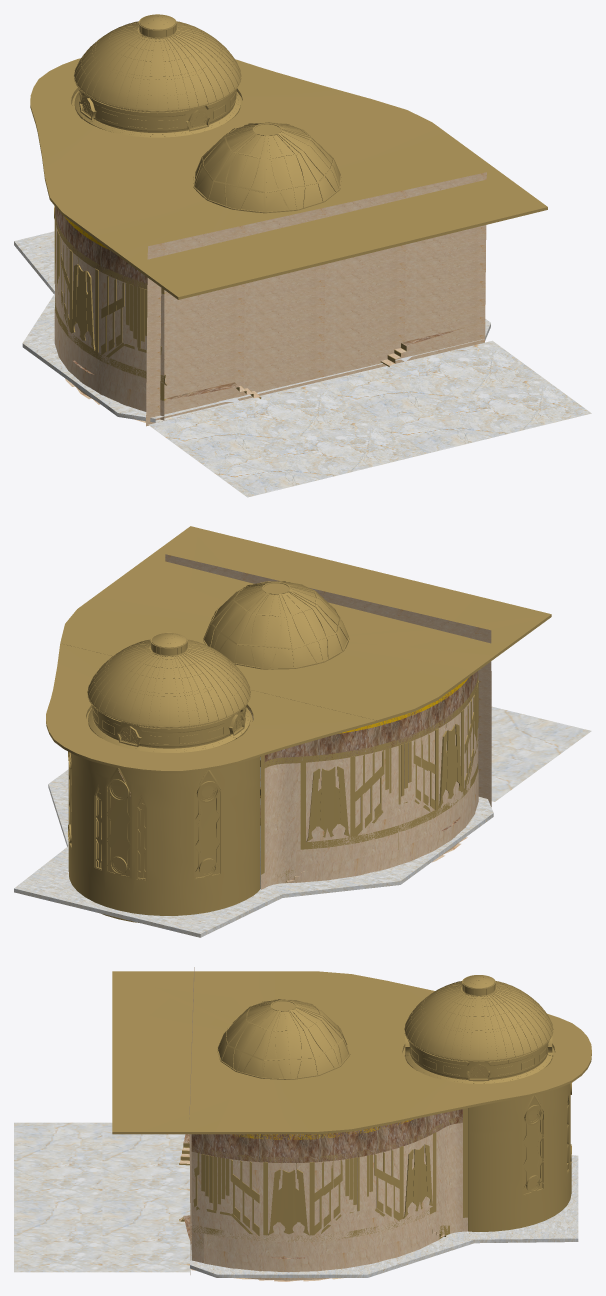
Rendered from Sabhamandap.gltf.
3 renders of one model, top to bottom at view 1: azimuth 30°, elevation 25°; view 2: azimuth 150°, elevation 25°; view 3: azimuth 270°, elevation 25°, orthographic. The views are drawn at different scales.
Parts seen in each view (by area): view 1: XI_TOG_Ceiling.Shape_XI_TOG_Wall_Ceiling_Mat_0.002, Plane, Plane.001, XI_TOG_Ceiling.Shape_XI_TOG_Dome_Glass_Mat_0, XI_TOG_Ceiling.Shape_XI_TOG_Dome_Frame_Mat_0, XI_TOG_LeftWall.Shape_XI_TOG_Wall_LeftWall_Mat_0.009, XI_TOG_Ground.Shape_XI_TOG_Wall_Ground_Mat_0.008, XI_TOG_LeftWall.Shape_XI_TOG_Wall_LeftWall_Mat_0.013, XI_TOG_LeftWall.Shape_XI_TOG_Wall_LeftWall_Mat_0.018, XI_TOG_LeftWall.Shape_XI_TOG_Wall_LeftWall_Mat_0.016, XI_TOG_LeftWall.Shape_XI_TOG_Wall_LeftWall_Mat_0.007, XI_TOG_LeftWall.Shape_XI_TOG_Wall_LeftWall_Mat_0.006 (+2 smaller); view 2: XI_TOG_Ceiling.Shape_XI_TOG_Wall_Ceiling_Mat_0.002, XI_TOG_Thronewall.Shape_XI_TOG_Wall_ThroneWall_Mat_0.001, XI_TOG_LeftWall.Shape_XI_TOG_Wall_LeftWall_Mat_0.009, XI_TOG_Ceiling.Shape_XI_TOG_Dome_Glass_Mat_0, XI_TOG_Ceiling.Shape_XI_TOG_Dome_Frame_Mat_0, XI_TOG_Ground.Shape_XI_TOG_Wall_Ground_Mat_0.008, Plane.001, Plane, XI_TOG_Thronewall.Shape_XI_TOG_Wall_Opac_Mat_0.001, XI_TOG_LeftWall.Shape_XI_TOG_Wall_LeftWall_Mat_0.013, XI_TOG_LeftWall.Shape_XI_TOG_Wall_LeftWall_Mat_0.015, XI_TOG_LeftWall.Shape_XI_TOG_Wall_LeftWall_Mat_0.019 (+6 smaller); view 3: XI_TOG_Ceiling.Shape_XI_TOG_Wall_Ceiling_Mat_0.002, Plane.001, XI_TOG_LeftWall.Shape_XI_TOG_Wall_LeftWall_Mat_0.038, XI_TOG_Ceiling.Shape_XI_TOG_Dome_Glass_Mat_0, XI_TOG_Thronewall.Shape_XI_TOG_Wall_ThroneWall_Mat_0.001, XI_TOG_Ceiling.Shape_XI_TOG_Dome_Frame_Mat_0, XI_TOG_LeftWall.Shape_XI_TOG_Wall_LeftWall_Mat_0.034, XI_TOG_Ground.Shape_XI_TOG_Wall_Ground_Mat_0.008, XI_TOG_LeftWall.Shape_XI_TOG_Wall_LeftWall_Mat_0.032, XI_TOG_LeftWall.Shape_XI_TOG_Wall_LeftWall_Mat_0.029, XI_TOG_LeftWall.Shape_XI_TOG_Wall_LeftWall_Mat_0.031, XI_TOG_LeftWall.Shape_XI_TOG_Wall_LeftWall_Mat_0.028 (+7 smaller).
Boxes of the visible parts, <box> form: XI_TOG_Ceiling.Shape_XI_TOG_Wall_Ceiling_Mat_0.002: <box>30,58,547,299</box>; Plane: <box>146,172,486,426</box>; Plane.001: <box>148,340,591,497</box>; XI_TOG_Ceiling.Shape_XI_TOG_Dome_Glass_Mat_0: <box>74,14,340,211</box>; XI_TOG_Ceiling.Shape_XI_TOG_Dome_Frame_Mat_0: <box>72,14,341,213</box>; XI_TOG_LeftWall.Shape_XI_TOG_Wall_LeftWall_Mat_0.009: <box>54,225,164,422</box>; XI_TOG_Ground.Shape_XI_TOG_Wall_Ground_Mat_0.008: <box>14,231,490,422</box>; XI_TOG_LeftWall.Shape_XI_TOG_Wall_LeftWall_Mat_0.013: <box>55,206,163,293</box>; XI_TOG_LeftWall.Shape_XI_TOG_Wall_LeftWall_Mat_0.018: <box>71,258,95,350</box>; XI_TOG_LeftWall.Shape_XI_TOG_Wall_LeftWall_Mat_0.016: <box>95,268,164,357</box>; XI_TOG_LeftWall.Shape_XI_TOG_Wall_LeftWall_Mat_0.007: <box>126,283,147,348</box>; XI_TOG_LeftWall.Shape_XI_TOG_Wall_LeftWall_Mat_0.006: <box>55,297,167,400</box>; XI_TOG_Ceiling.Shape_XI_TOG_Wall_Ceiling_Mat_0.002: <box>46,526,551,773</box>; XI_TOG_Thronewall.Shape_XI_TOG_Wall_ThroneWall_Mat_0.001: <box>68,751,259,922</box>; XI_TOG_LeftWall.Shape_XI_TOG_Wall_LeftWall_Mat_0.009: <box>261,696,478,889</box>; XI_TOG_Ceiling.Shape_XI_TOG_Dome_Glass_Mat_0: <box>87,581,348,743</box>; XI_TOG_Ceiling.Shape_XI_TOG_Dome_Frame_Mat_0: <box>86,581,349,752</box>; XI_TOG_Ground.Shape_XI_TOG_Wall_Ground_Mat_0.008: <box>14,757,493,937</box>; Plane.001: <box>491,706,591,801</box>; Plane: <box>165,554,491,806</box>; XI_TOG_Thronewall.Shape_XI_TOG_Wall_Opac_Mat_0.001: <box>69,769,219,878</box>; XI_TOG_LeftWall.Shape_XI_TOG_Wall_LeftWall_Mat_0.013: <box>264,671,478,766</box>; XI_TOG_LeftWall.Shape_XI_TOG_Wall_LeftWall_Mat_0.015: <box>350,728,438,837</box>; XI_TOG_LeftWall.Shape_XI_TOG_Wall_LeftWall_Mat_0.019: <box>306,766,349,842</box>; XI_TOG_Ceiling.Shape_XI_TOG_Wall_Ceiling_Mat_0.002: <box>112,971,591,1134</box>; Plane.001: <box>14,1122,190,1272</box>; XI_TOG_LeftWall.Shape_XI_TOG_Wall_LeftWall_Mat_0.038: <box>191,1123,467,1281</box>; XI_TOG_Ceiling.Shape_XI_TOG_Dome_Glass_Mat_0: <box>218,975,552,1078</box>; XI_TOG_Thronewall.Shape_XI_TOG_Wall_ThroneWall_Mat_0.001: <box>468,1083,571,1231</box>; XI_TOG_Ceiling.Shape_XI_TOG_Dome_Frame_Mat_0: <box>217,975,554,1083</box>; XI_TOG_LeftWall.Shape_XI_TOG_Wall_LeftWall_Mat_0.034: <box>191,1109,462,1162</box>; XI_TOG_Ground.Shape_XI_TOG_Wall_Ground_Mat_0.008: <box>190,1155,578,1277</box>; XI_TOG_LeftWall.Shape_XI_TOG_Wall_LeftWall_Mat_0.032: <box>309,1146,403,1235</box>; XI_TOG_LeftWall.Shape_XI_TOG_Wall_LeftWall_Mat_0.029: <box>268,1163,309,1235</box>; XI_TOG_LeftWall.Shape_XI_TOG_Wall_LeftWall_Mat_0.031: <box>193,1152,267,1235</box>; XI_TOG_LeftWall.Shape_XI_TOG_Wall_LeftWall_Mat_0.028: <box>403,1144,433,1218</box>.
Bounding box in the file's own units: 43.24 × 28.37 × 65.34.
80 materials, 80 textured.
